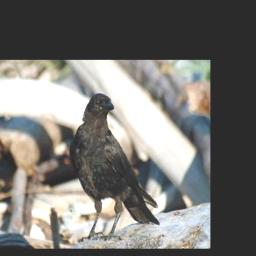Crow: (68, 91, 160, 242)
